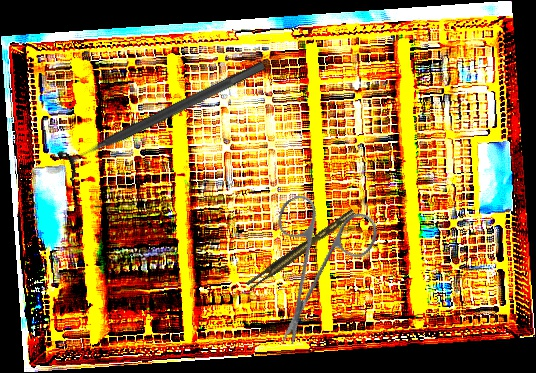Fixation Ring: (56, 50, 272, 183)
Iris Scissors: (226, 170, 407, 349)
Tissue Forceps: (243, 208, 360, 291)
